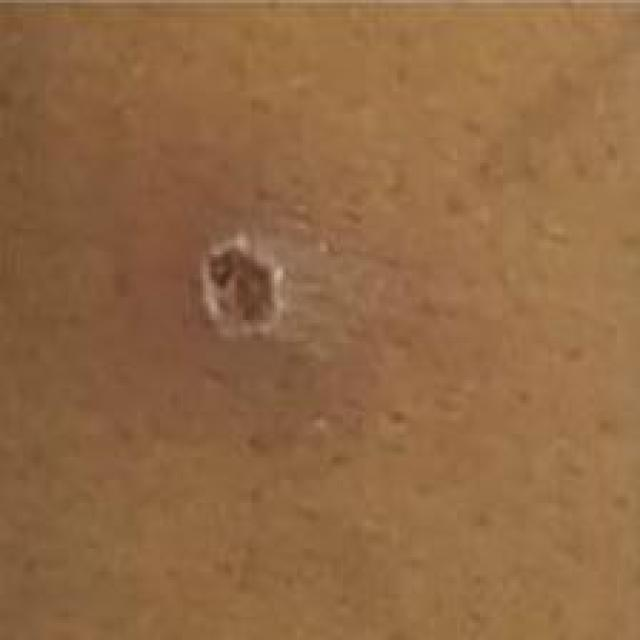monkeypox: (35, 86, 492, 538)
